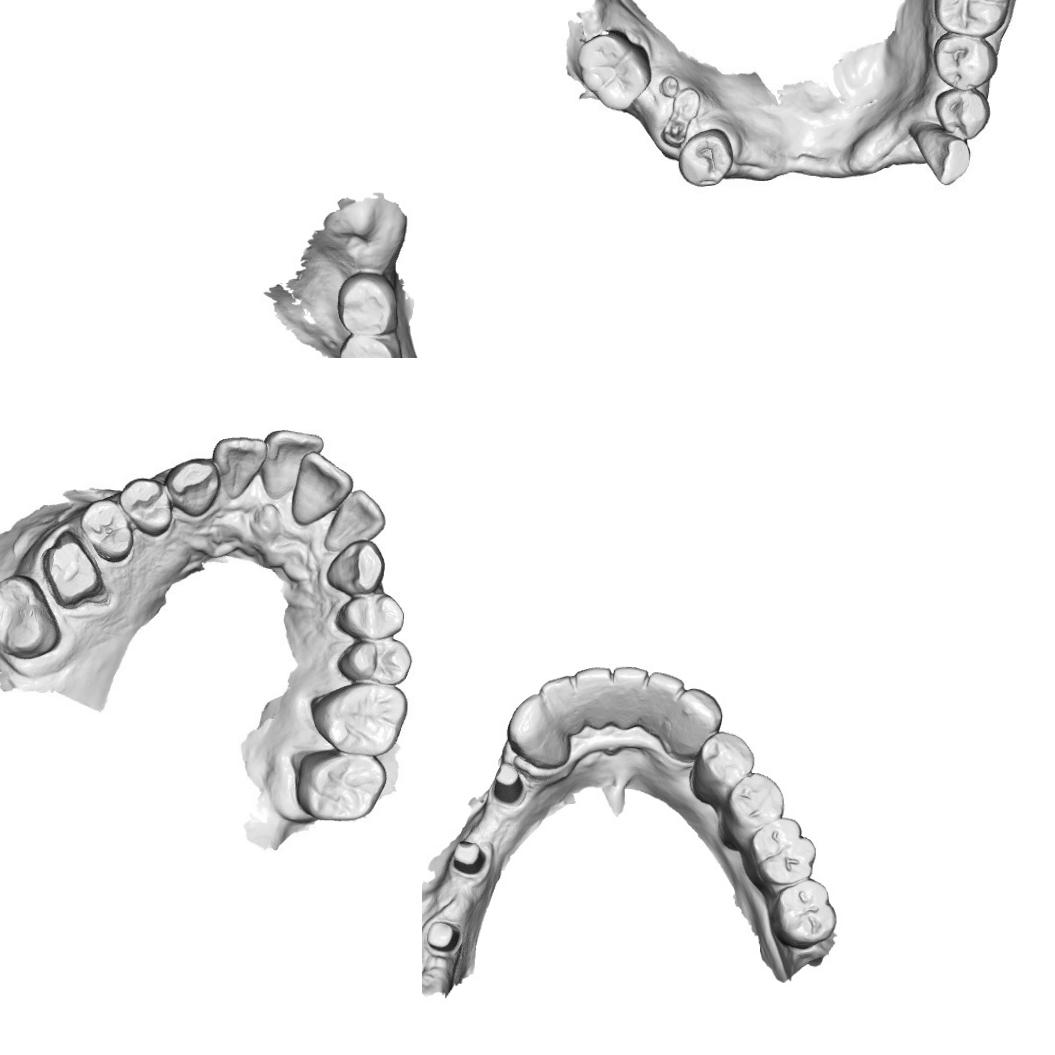abutment: (486, 759, 528, 807), (448, 835, 490, 878), (422, 914, 464, 955)
canine: (507, 690, 573, 772), (666, 686, 725, 759), (912, 124, 972, 188), (164, 454, 220, 518), (328, 540, 385, 598)
crown: (47, 534, 104, 608)
incisor: (261, 427, 324, 498), (294, 450, 352, 524), (323, 482, 385, 550), (212, 430, 267, 502), (536, 670, 584, 738), (640, 668, 686, 736), (572, 664, 615, 730), (610, 663, 650, 732)
molar: (310, 676, 416, 762), (292, 752, 386, 824), (572, 32, 651, 110), (742, 814, 818, 892), (766, 876, 838, 951), (0, 570, 59, 660), (334, 268, 397, 338), (934, 0, 1013, 37), (336, 331, 406, 358)
premolar: (718, 770, 786, 848), (688, 728, 756, 804), (928, 31, 1000, 95), (327, 638, 420, 686), (116, 472, 176, 538), (676, 126, 739, 188), (332, 589, 408, 640), (78, 496, 135, 564), (932, 84, 992, 140)
